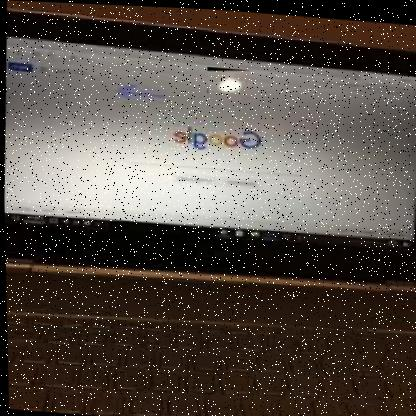spot: (206, 65, 253, 95)
